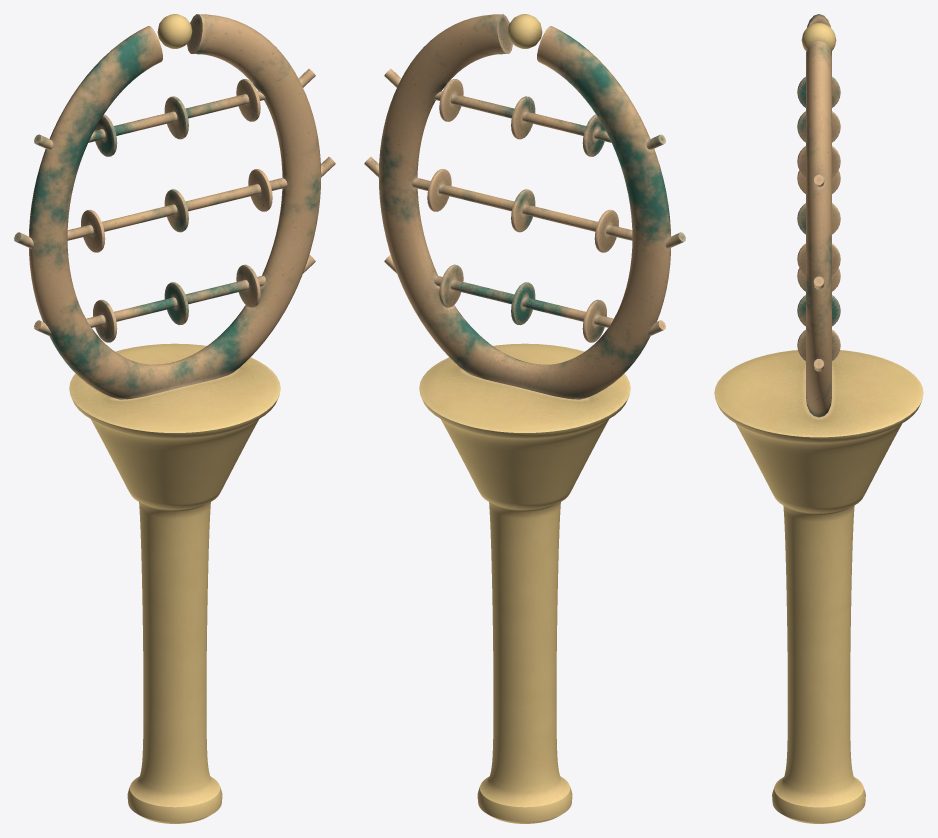
File: sistrum.glb
3 views of the same model, side by side, from view 1: azimuth 30°, elevation 25°; view 2: azimuth 150°, elevation 25°; view 3: azimuth 270°, elevation 25° (orthographic).
Visible parts, largest first — view 1: sistrum; view 2: sistrum; view 3: sistrum.
Boxes of the visible parts, x1=… form: sistrum: x1=14, y1=14, x2=335, y2=823; sistrum: x1=364, y1=14, x2=685, y2=823; sistrum: x1=714, y1=14, x2=923, y2=823.
Size of the model in its own units: 0.1259 by 0.2984 by 0.0722.
Materials: 1 (1 with a texture image).
